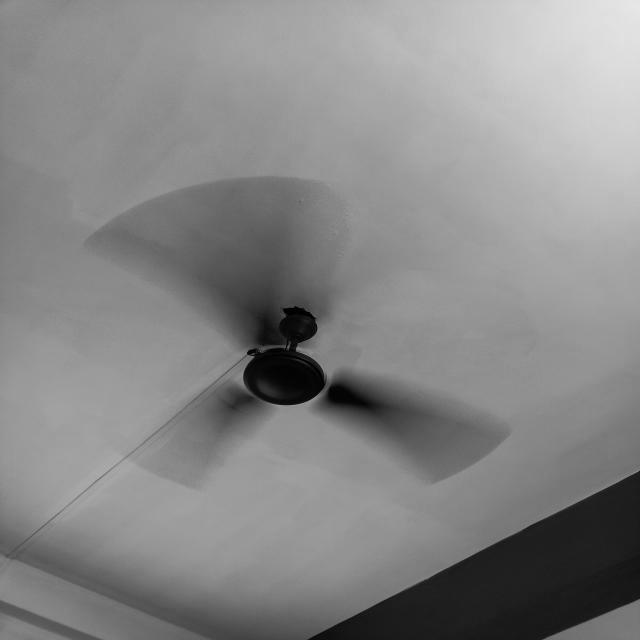fan: (80, 195, 518, 498)
